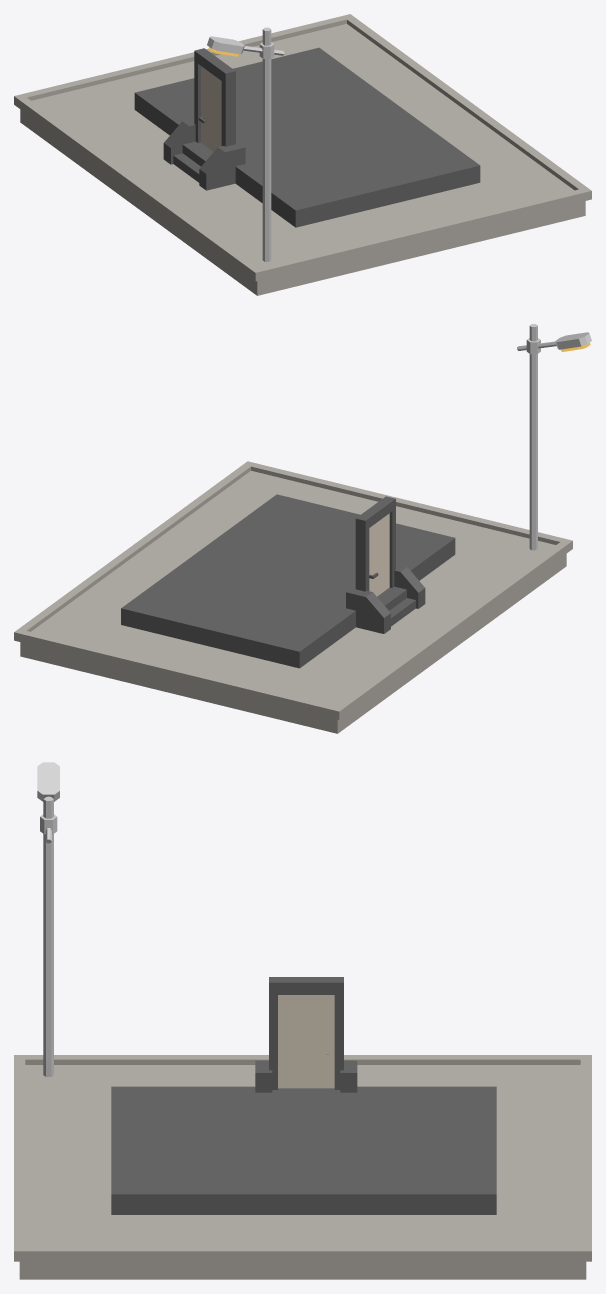
The picture shows the model from 3 angles, top to bottom: view 1: azimuth 30°, elevation 25°; view 2: azimuth 150°, elevation 25°; view 3: azimuth 270°, elevation 25°; orthographic projection. The views are drawn at different scales.
Visible parts, largest first — view 1: base; view 2: base; view 3: base.
Part boxes in pixels (left/top/right/bottom): base: left=14, top=14, right=591, bottom=295; base: left=14, top=324, right=591, bottom=733; base: left=14, top=762, right=591, bottom=1279.
Size of the model in its own units: 8.97 by 5.97 by 10.2.
